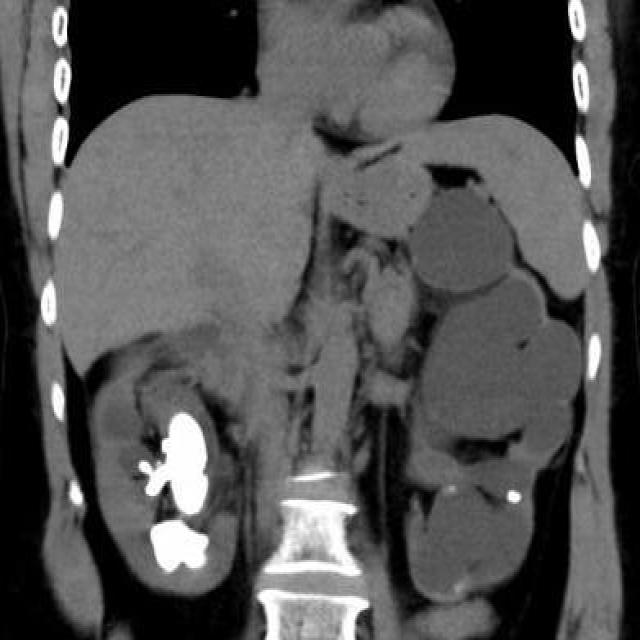Tas_Var: (142, 407, 213, 517), (140, 515, 215, 579), (502, 487, 526, 507), (132, 458, 154, 478)
